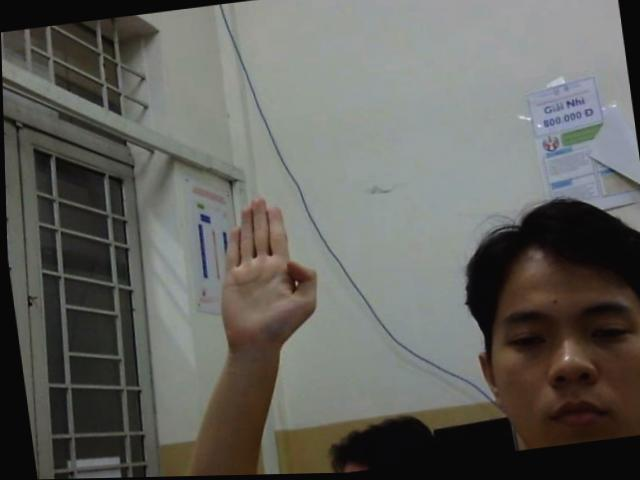B: (205, 185, 321, 339)
